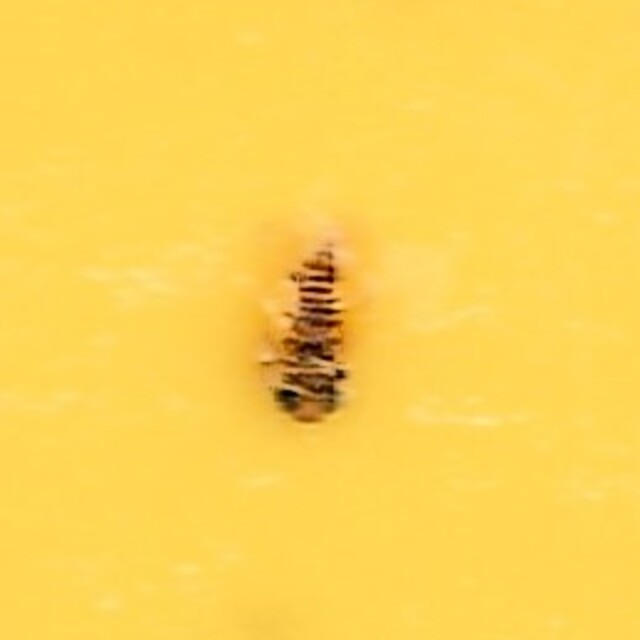Hemiptera: (247, 200, 393, 440)
